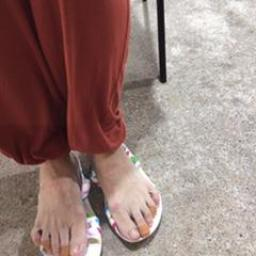Dorsal View -Both Feet-: (20, 132, 163, 255)
